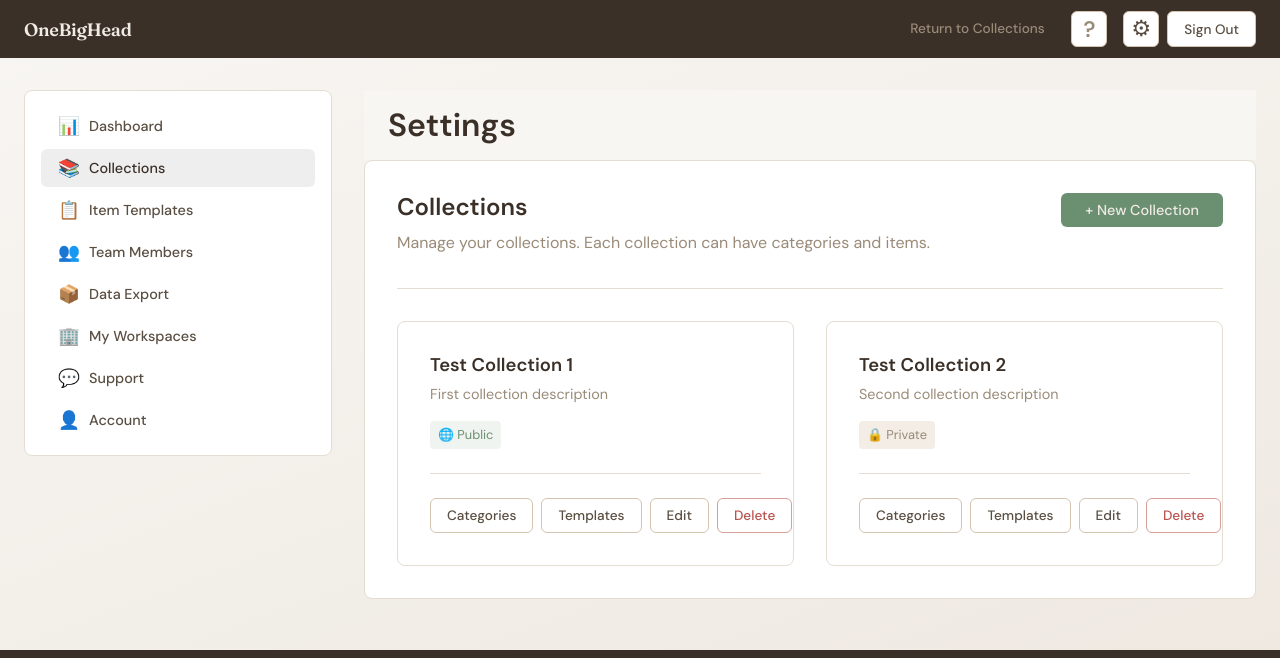
Test: SettingsView › collections section - edit mode › should show error when update fails
Click the button "Edit" below "🌐 Public" at (679, 515), box [650,498,709,533]
(page scrolled)
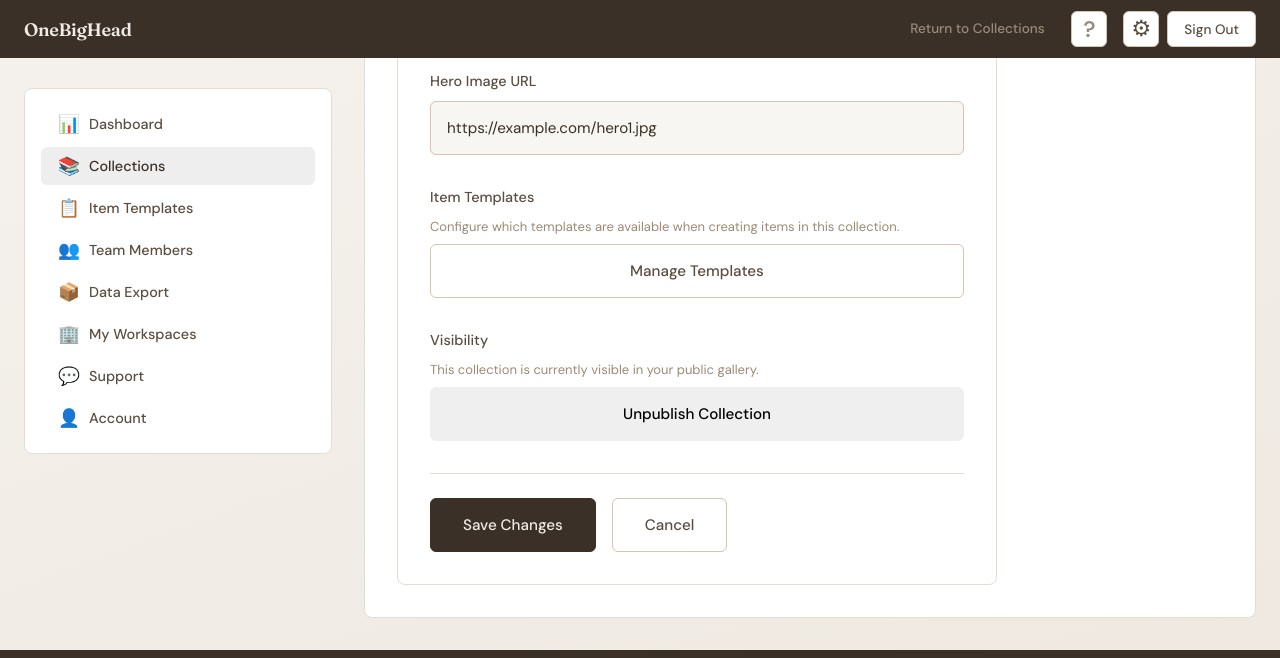
Click the button "Save Changes" at (513, 525), box [430,498,596,552]
(page scrolled)
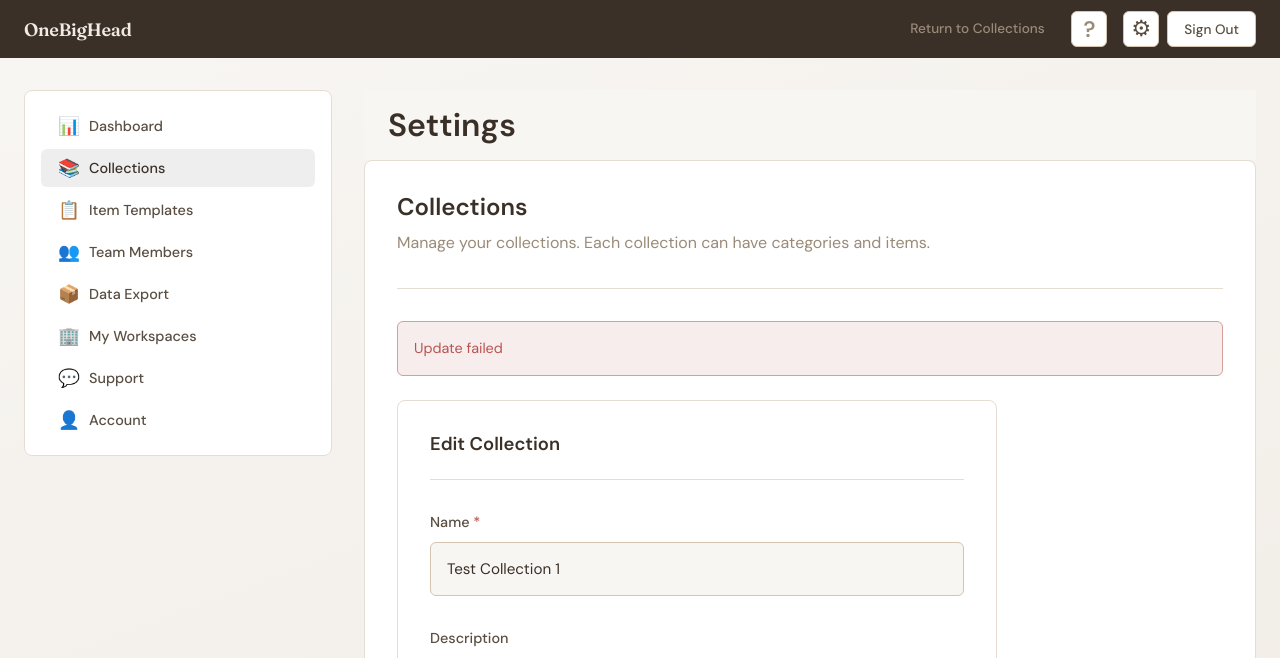
Expected: the text "Update failed" is shown, [397,321,1223,376]
